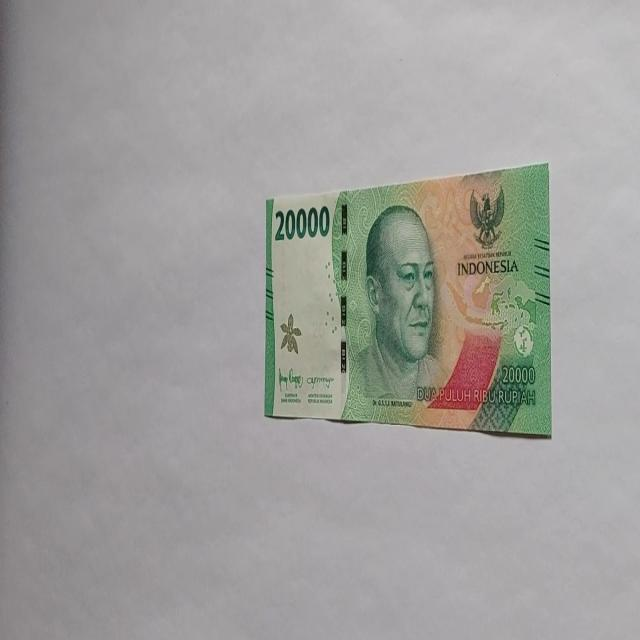dua puluh ribu rupiah: (264, 160, 552, 436), (340, 202, 449, 424)
